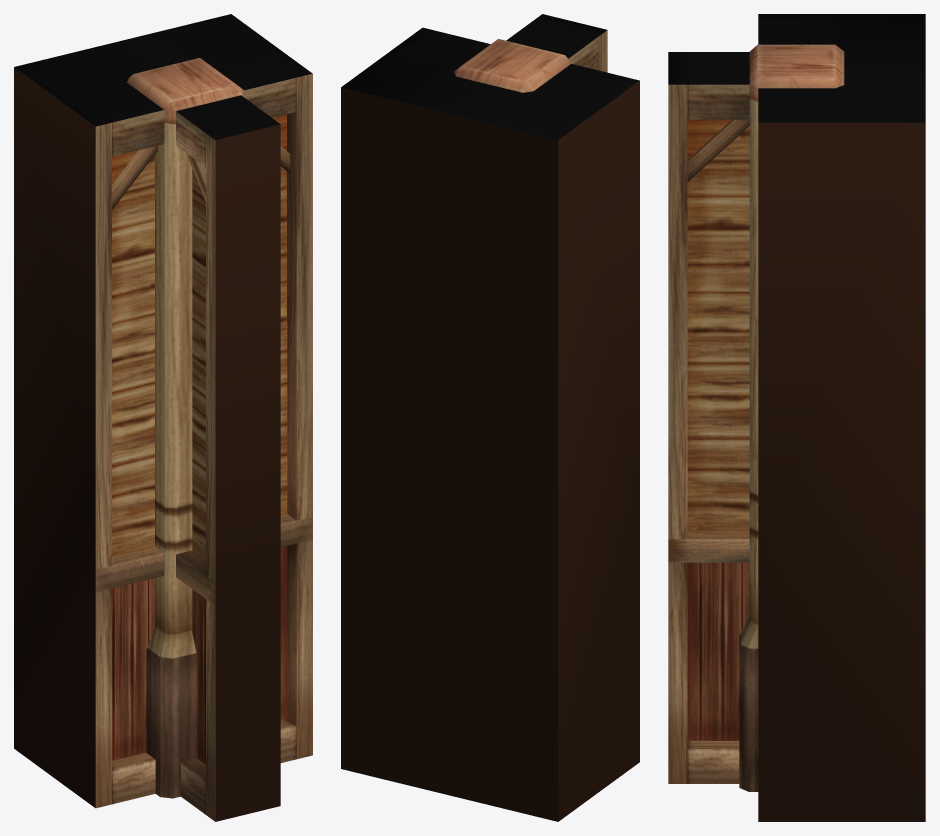
Rendered from a_SWGcwall04B.glb.
3 renders of one model, left to right at view 1: azimuth 30°, elevation 25°; view 2: azimuth 150°, elevation 25°; view 3: azimuth 270°, elevation 25°, orthographic. The views are drawn at different scales.
Parts seen in each view (by area): view 1: a_SWGcwall04B; view 2: a_SWGcwall04B; view 3: a_SWGcwall04B.
Part boxes in pixels (x1,y1,x2,y2): a_SWGcwall04B: [14, 14, 312, 821]; a_SWGcwall04B: [341, 14, 639, 821]; a_SWGcwall04B: [668, 14, 925, 821].
Size of the model in its own units: 1 by 3.03 by 1.
Materials: 3 (3 with a texture image).
